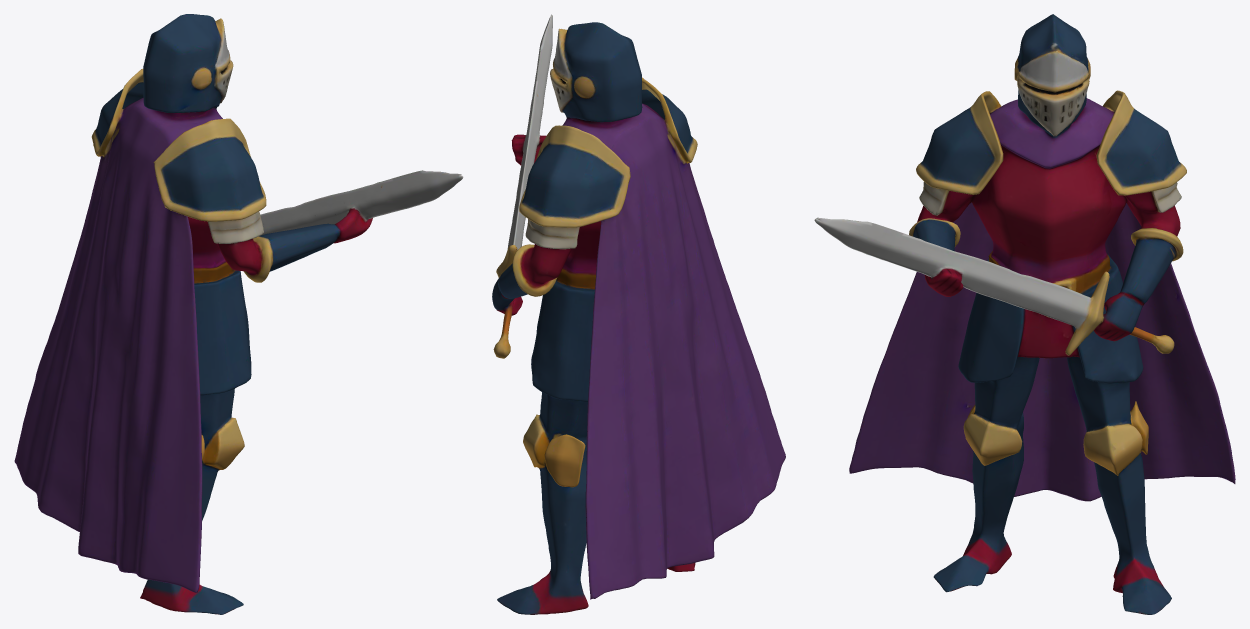
Rendered from knight sword.glb.
3 views of the same model, side by side, from view 1: azimuth 30°, elevation 25°; view 2: azimuth 150°, elevation 25°; view 3: azimuth 270°, elevation 25° (orthographic). The views are drawn at different scales.
Visible parts, largest first — view 1: tripo_node_c978f39e; view 2: tripo_node_c978f39e; view 3: tripo_node_c978f39e.
Part boxes in pixels (<box>): tripo_node_c978f39e: <box>14,14,463,614</box>; tripo_node_c978f39e: <box>492,14,785,614</box>; tripo_node_c978f39e: <box>814,14,1235,614</box>.
Size of the model in its own units: 0.5137 by 0.9969 by 0.6656.
Materials: 1 (1 with a texture image).
